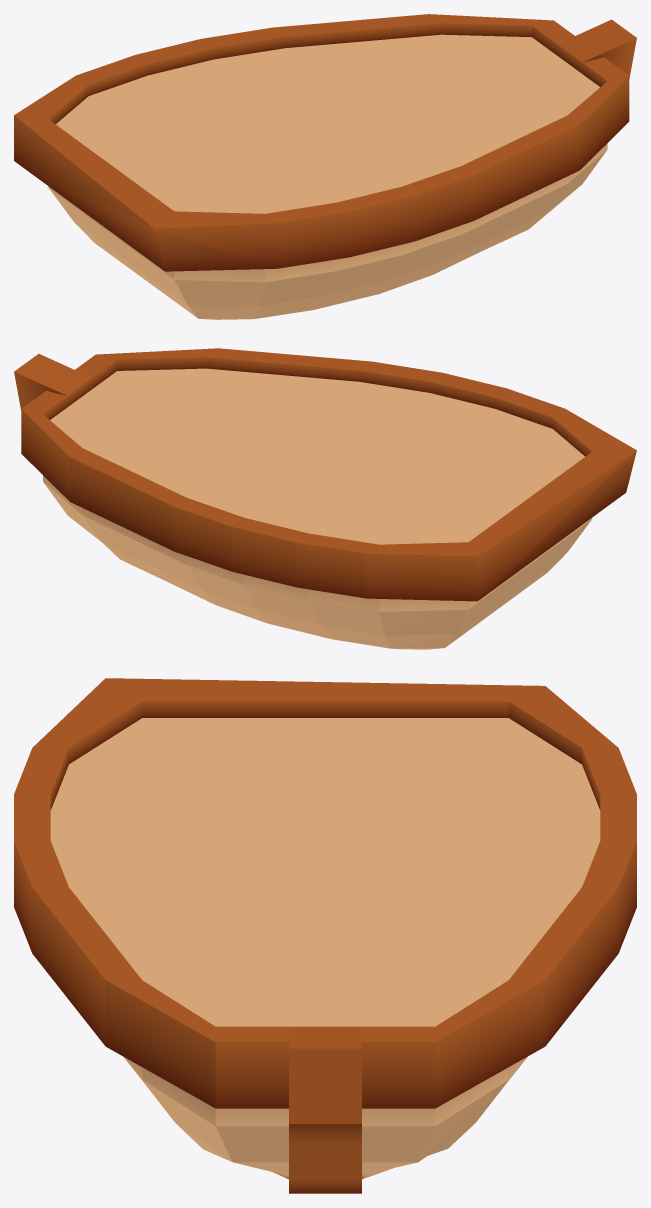
Rendered from boat2_model.gltf.
3 views of the same model, one above another, from view 1: azimuth 30°, elevation 25°; view 2: azimuth 150°, elevation 25°; view 3: azimuth 270°, elevation 25° (orthographic). The views are drawn at different scales.
Parts seen in each view (by area): view 1: default; view 2: default; view 3: default.
Boxes of the visible parts, x1,y1,x2,y2 form: default: [14, 14, 636, 319]; default: [14, 348, 636, 649]; default: [14, 678, 636, 1193].
Size of the model in its own units: 12.5 by 3.36 by 8.5.
1 material, 1 textured.
